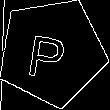P_N: (30, 24, 75, 80)
